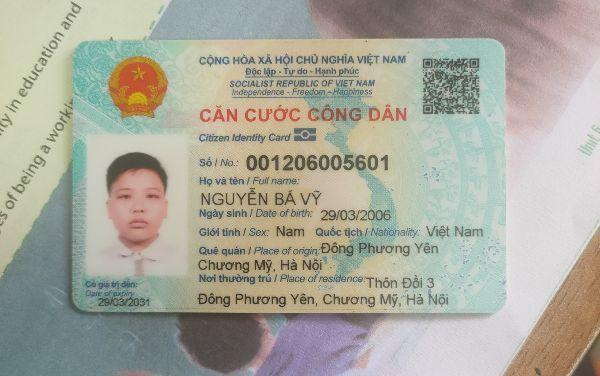ID: (243, 150, 392, 173)
birth: (320, 207, 392, 223)
name: (197, 188, 337, 209)
place: (194, 256, 326, 276), (319, 239, 443, 257)
residence: (193, 287, 453, 310), (365, 272, 439, 292)
